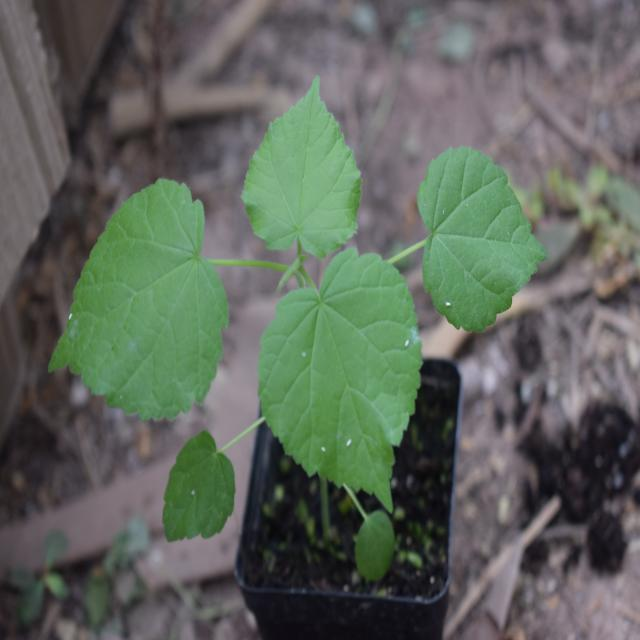abutilon theophrasti: (65, 95, 543, 562)
